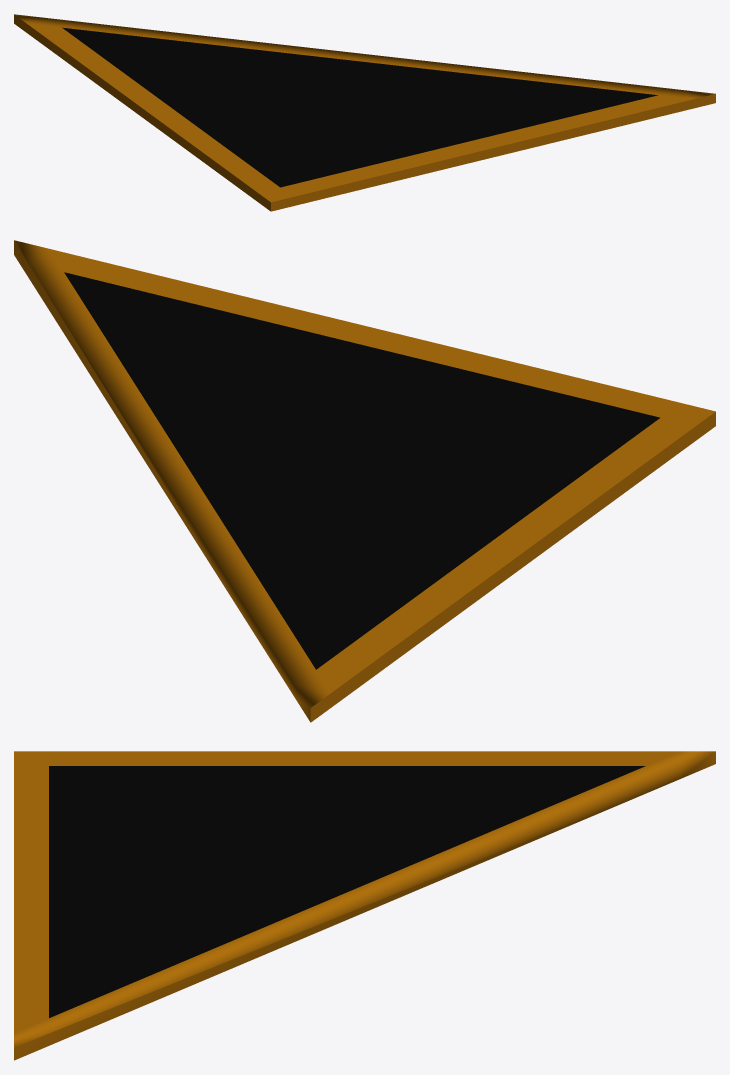
Rendered from triangle_floor.fbx.
3 views of the same model, one above another, from view 1: azimuth 30°, elevation 25°; view 2: azimuth 150°, elevation 25°; view 3: azimuth 270°, elevation 25° (orthographic). The views are drawn at different scales.
Visible parts, largest first — view 1: pCube1; view 2: pCube1; view 3: pCube1.
Boxes of the visible parts, x1,y1,x2,y2 form: pCube1: (14, 14, 715, 211); pCube1: (14, 240, 715, 722); pCube1: (14, 751, 715, 1060).
Bounding box in the file's own units: 5 × 0.1 × 5.
